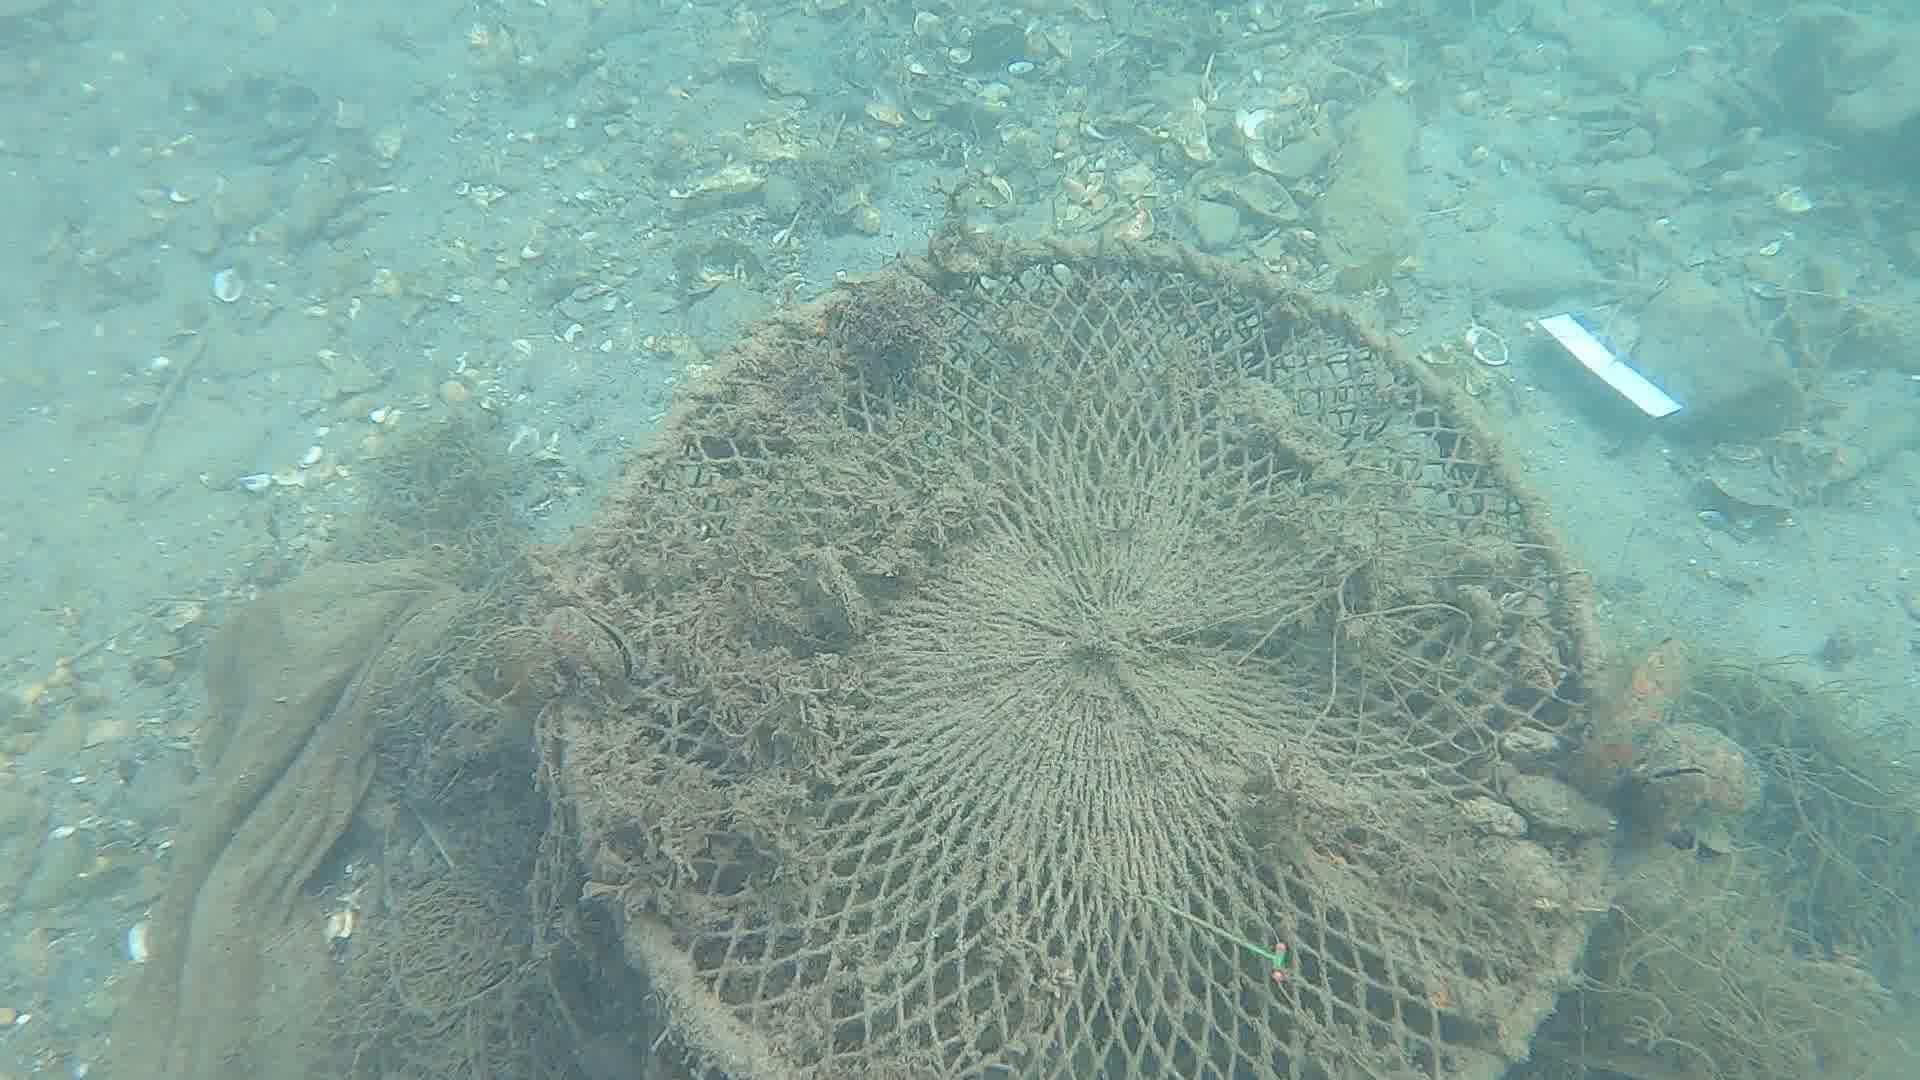circular fish trap: (559, 233, 1621, 1080)
